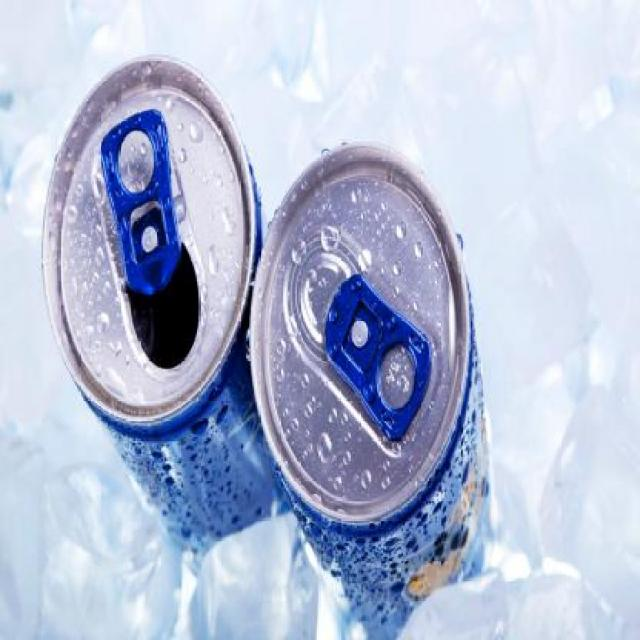non-organic waste: (250, 137, 518, 640), (37, 15, 269, 572)
